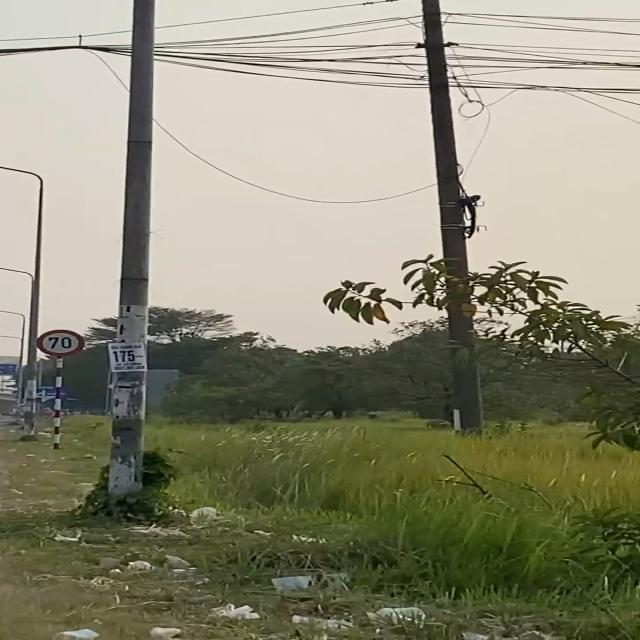127-toc-do-toi-da-70: (36, 328, 86, 357)
